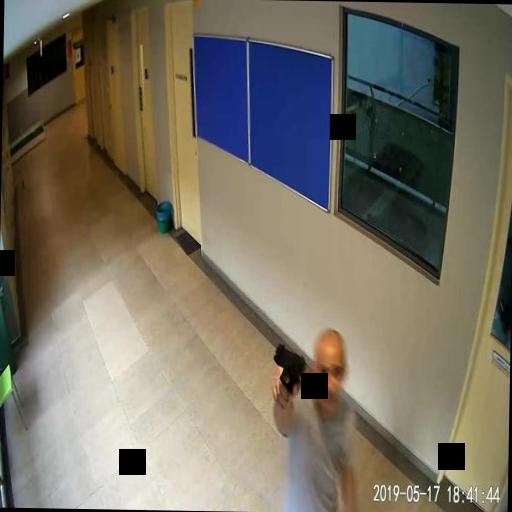Handgun: (272, 341, 304, 399)
